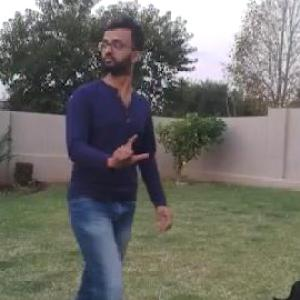land_hand: (107, 126, 153, 174)
